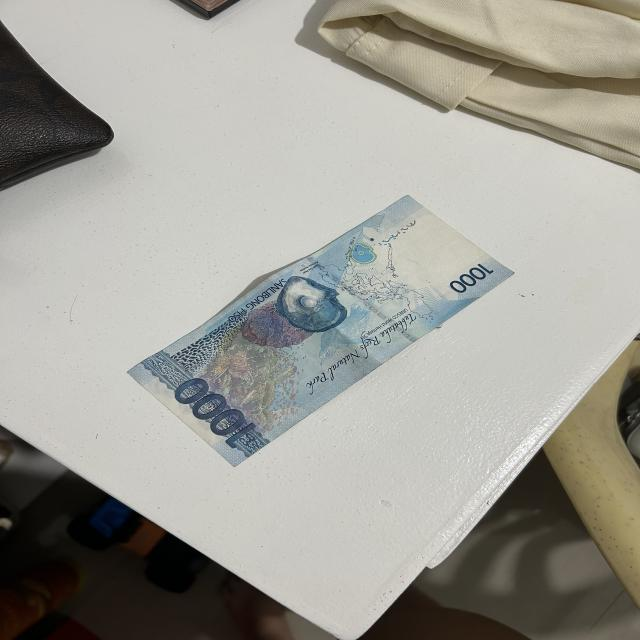1000_pearl: (281, 276, 338, 331)
1000_pearl_watermark: (352, 243, 377, 265)
